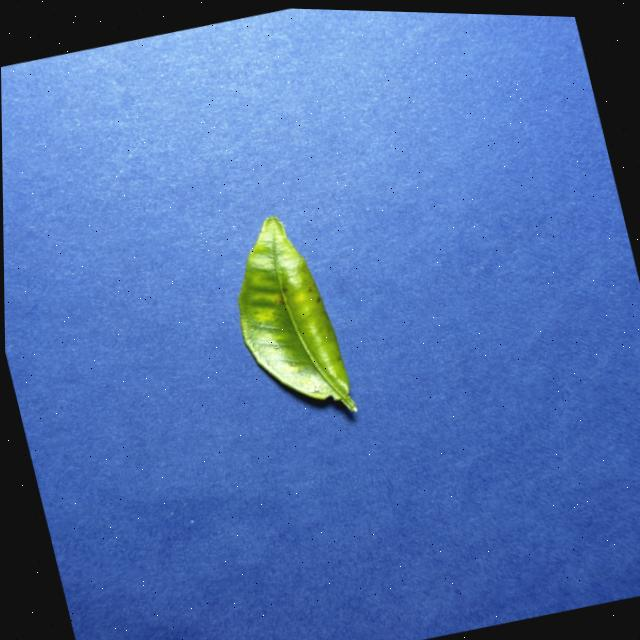greening: (237, 215, 355, 410)
